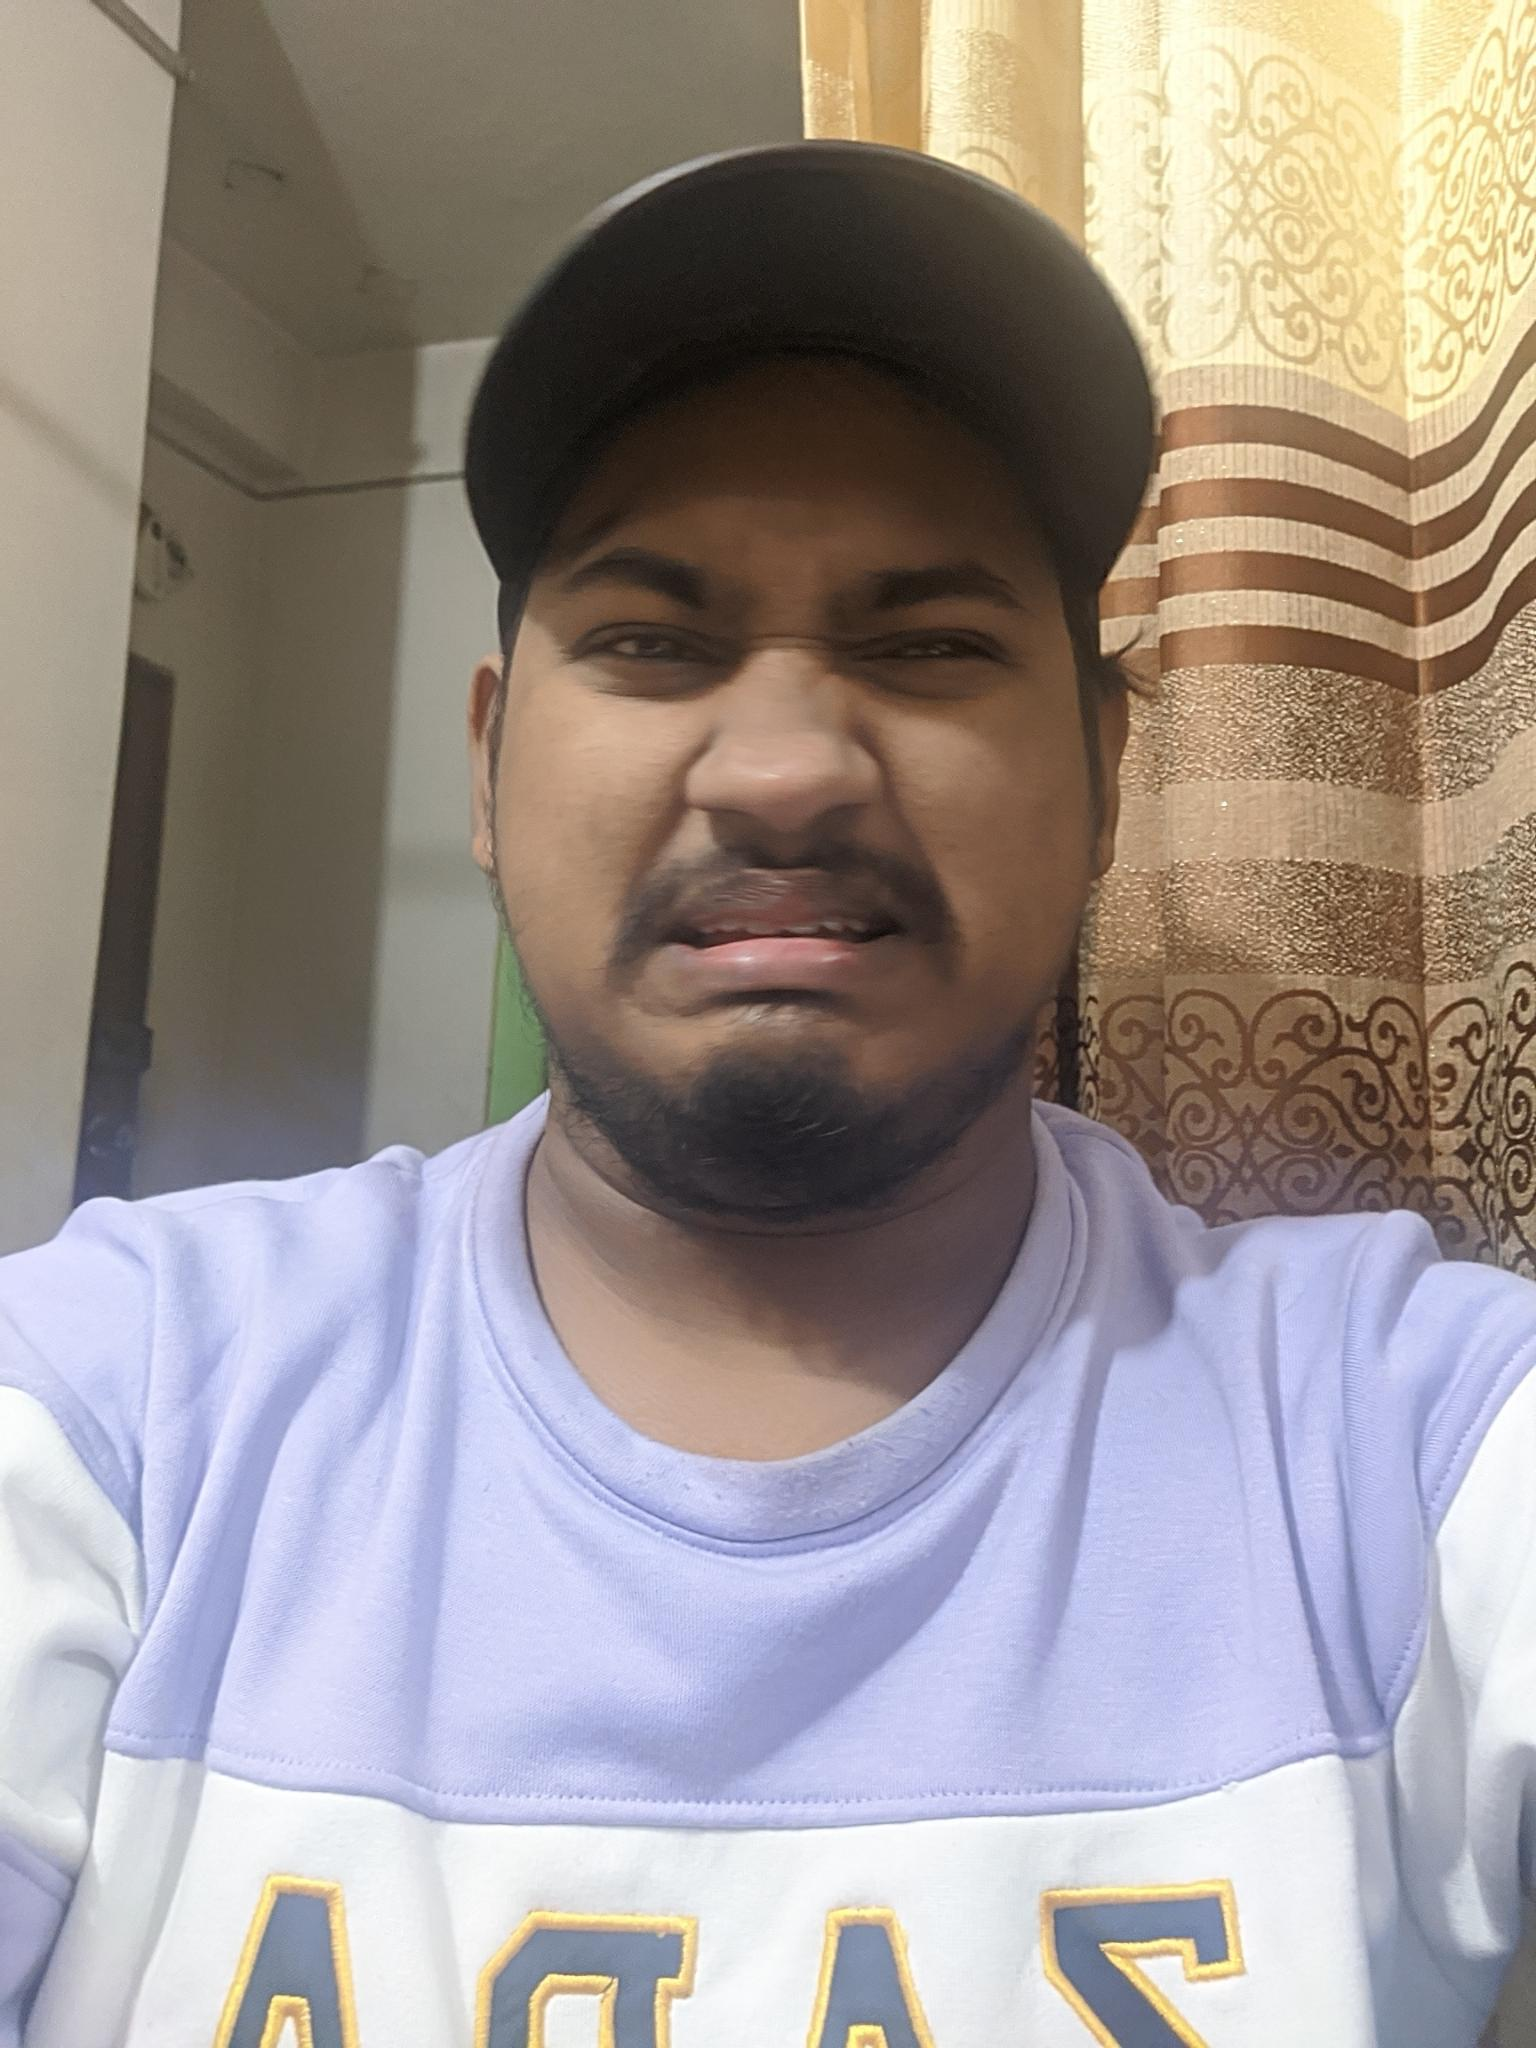Disgust: (499, 427, 1087, 1208)
